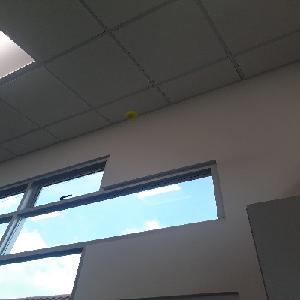Ball: (124, 110, 136, 120)
